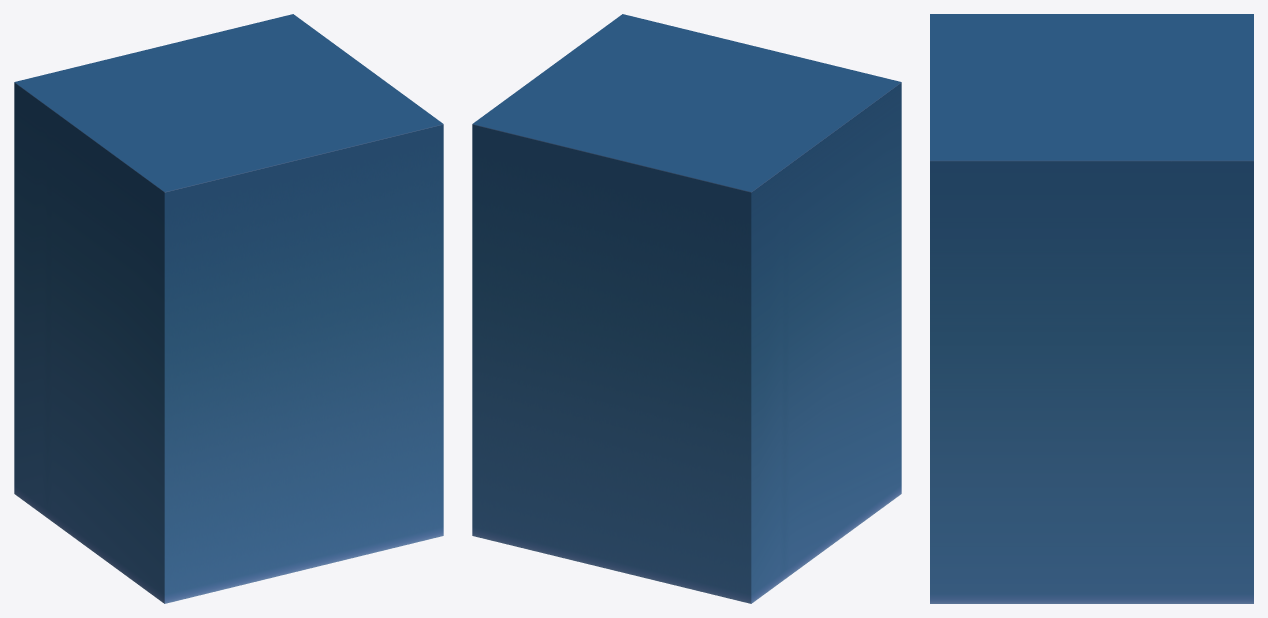
The model's file is test-zone.glb.
3 renders of one model, left to right at view 1: azimuth 30°, elevation 25°; view 2: azimuth 150°, elevation 25°; view 3: azimuth 270°, elevation 25°, orthographic. The views are drawn at different scales.
Visible parts, largest first — view 1: TutorialSky; view 2: TutorialSky; view 3: TutorialSky.
Part boxes in pixels (x1=…): TutorialSky: x1=14, y1=14, x2=443, y2=603; TutorialSky: x1=472, y1=14, x2=901, y2=603; TutorialSky: x1=930, y1=14, x2=1253, y2=603.
Bounding box in the file's own units: 1803 × 2543 × 1683.
3 materials, 2 textured.
